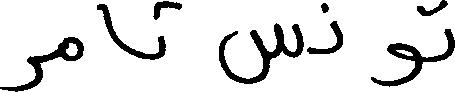X: (218, 18, 301, 88), (388, 1, 419, 91), (0, 51, 41, 91), (104, 0, 120, 52), (61, 32, 81, 65), (444, 0, 454, 64), (158, 0, 165, 63), (331, 16, 341, 57)
